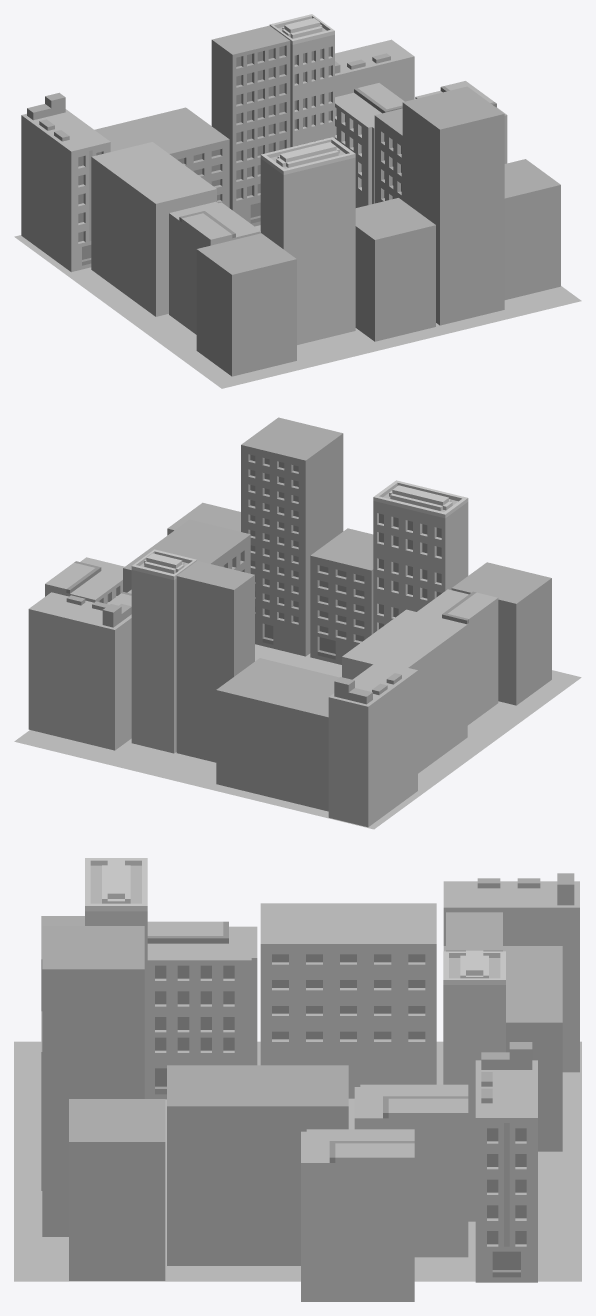
File: stage.fbx
3 renders of one model, top to bottom at view 1: azimuth 30°, elevation 25°; view 2: azimuth 150°, elevation 25°; view 3: azimuth 270°, elevation 25°, orthographic. The views are drawn at different scales.
Visible parts, largest first — view 1: building16, building001, building14, building023, building20, building17, building3, Plane002, building004, building10, building19, building022 (+4 smaller); view 2: building16, building19, building021, building17, building20, building001, Plane002, building14, building10, building023, building3, building022 (+3 smaller); view 3: building14, building13, building16, Plane002, building025, building004, building022, building021, building2, building17, building10, building19 (+3 smaller).
Part boxes in pixels (<box>): building16: <box>402,86,504,325</box>; building001: <box>260,137,355,344</box>; building14: <box>91,142,216,316</box>; building023: <box>196,233,296,376</box>; building20: <box>211,25,290,226</box>; building17: <box>21,92,110,271</box>; building3: <box>355,198,435,341</box>; Plane002: <box>14,225,581,388</box>; building004: <box>504,159,560,299</box>; building10: <box>269,14,334,147</box>; building19: <box>94,107,229,207</box>; building022: <box>169,201,260,334</box>; building16: <box>241,417,343,656</box>; building19: <box>216,658,339,811</box>; building021: <box>28,592,131,750</box>; building17: <box>328,660,417,827</box>; building20: <box>176,561,254,762</box>; building001: <box>373,480,468,633</box>; Plane002: <box>14,644,581,829</box>; building14: <box>342,609,467,773</box>; building10: <box>131,549,196,753</box>; building023: <box>451,562,551,705</box>; building3: <box>310,528,373,664</box>; building022: <box>417,589,498,725</box>; building14: <box>260,903,436,1098</box>; building13: <box>167,1065,348,1265</box>; building16: <box>42,926,144,1236</box>; Plane002: <box>14,1041,581,1281</box>; building025: <box>301,1129,414,1301</box>; building004: <box>69,1099,165,1280</box>; building022: <box>147,921,257,1099</box>; building021: <box>475,1042,537,1282</box>; building2: <box>354,1084,468,1257</box>; building17: <box>443,873,579,1072</box>; building10: <box>443,950,505,1221</box>; building19: <box>443,946,562,1151</box>.
Size of what is drawn, in the model's own units: 108 by 52 by 100.
Materials: 2 (2 with a texture image).
